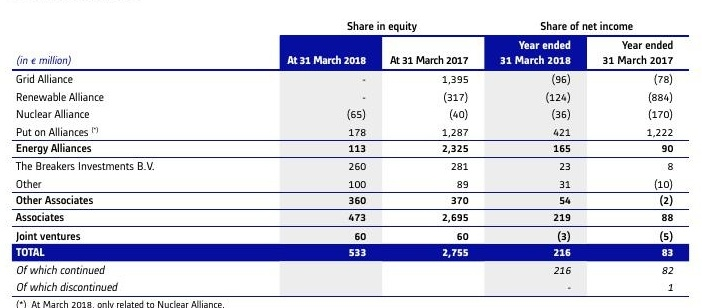table: (0, 0, 702, 308)
